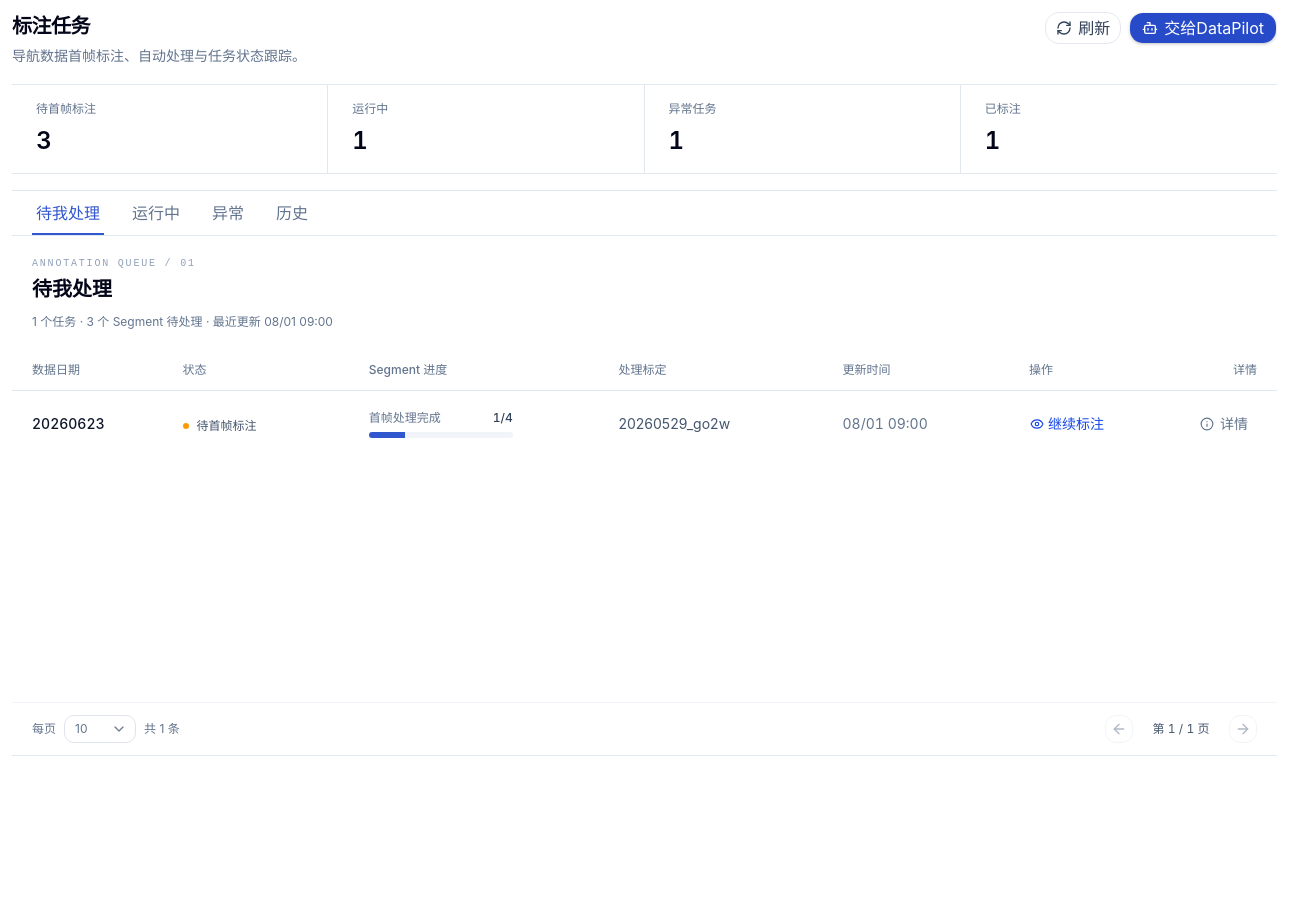
Scenario: JobsIndexView › switches filters immediately for reduced motion and keeps tracked running
What coordinates should you click on to do the following:
click the tab "运行中"
I would click on:
 (156, 213)
Its box is 128,191 -> 184,235.
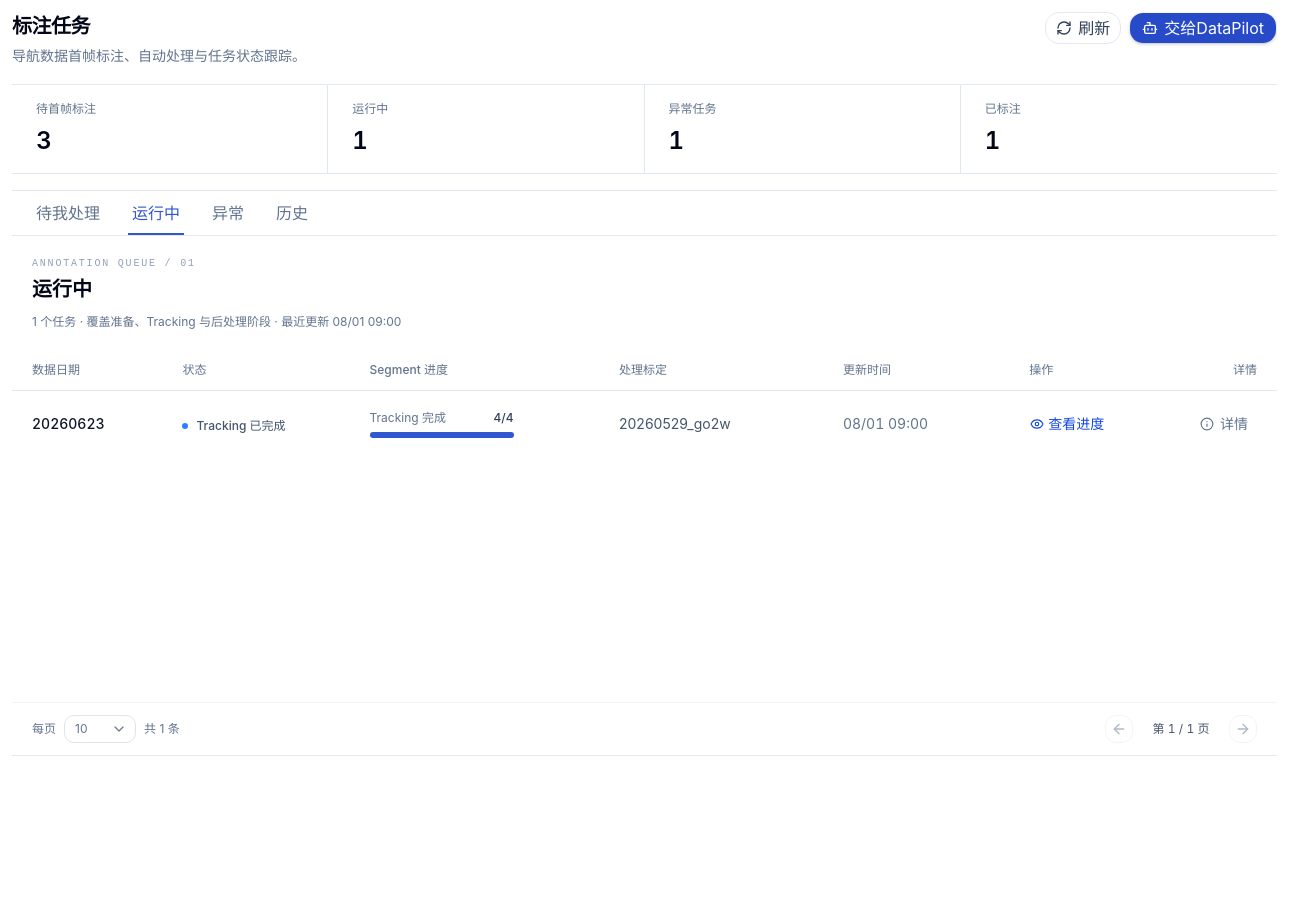
Now the text "Tracking 已完成" is shown, box 182,418 -> 286,434
Now the button "查看进度" is shown, box 1029,410 -> 1105,438
